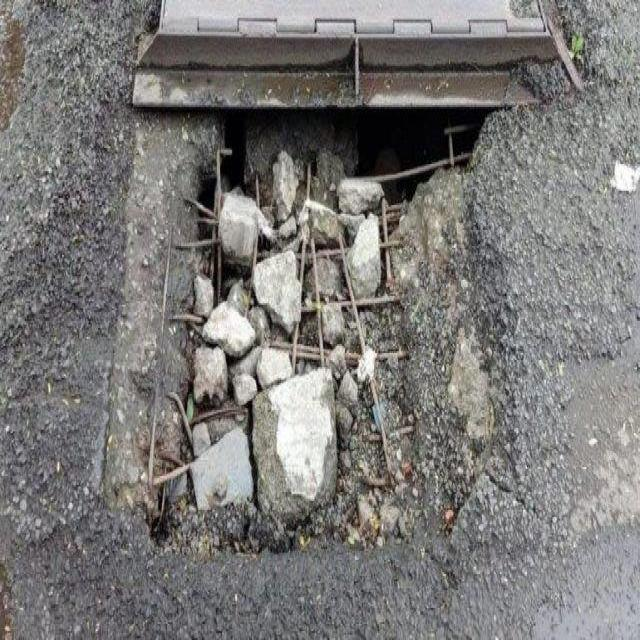jalan retak: (31, 531, 475, 640), (2, 210, 108, 617), (535, 267, 640, 537), (452, 290, 542, 566), (468, 519, 580, 593), (545, 2, 611, 96), (1, 0, 32, 174)
lubang: (127, 96, 508, 544)
